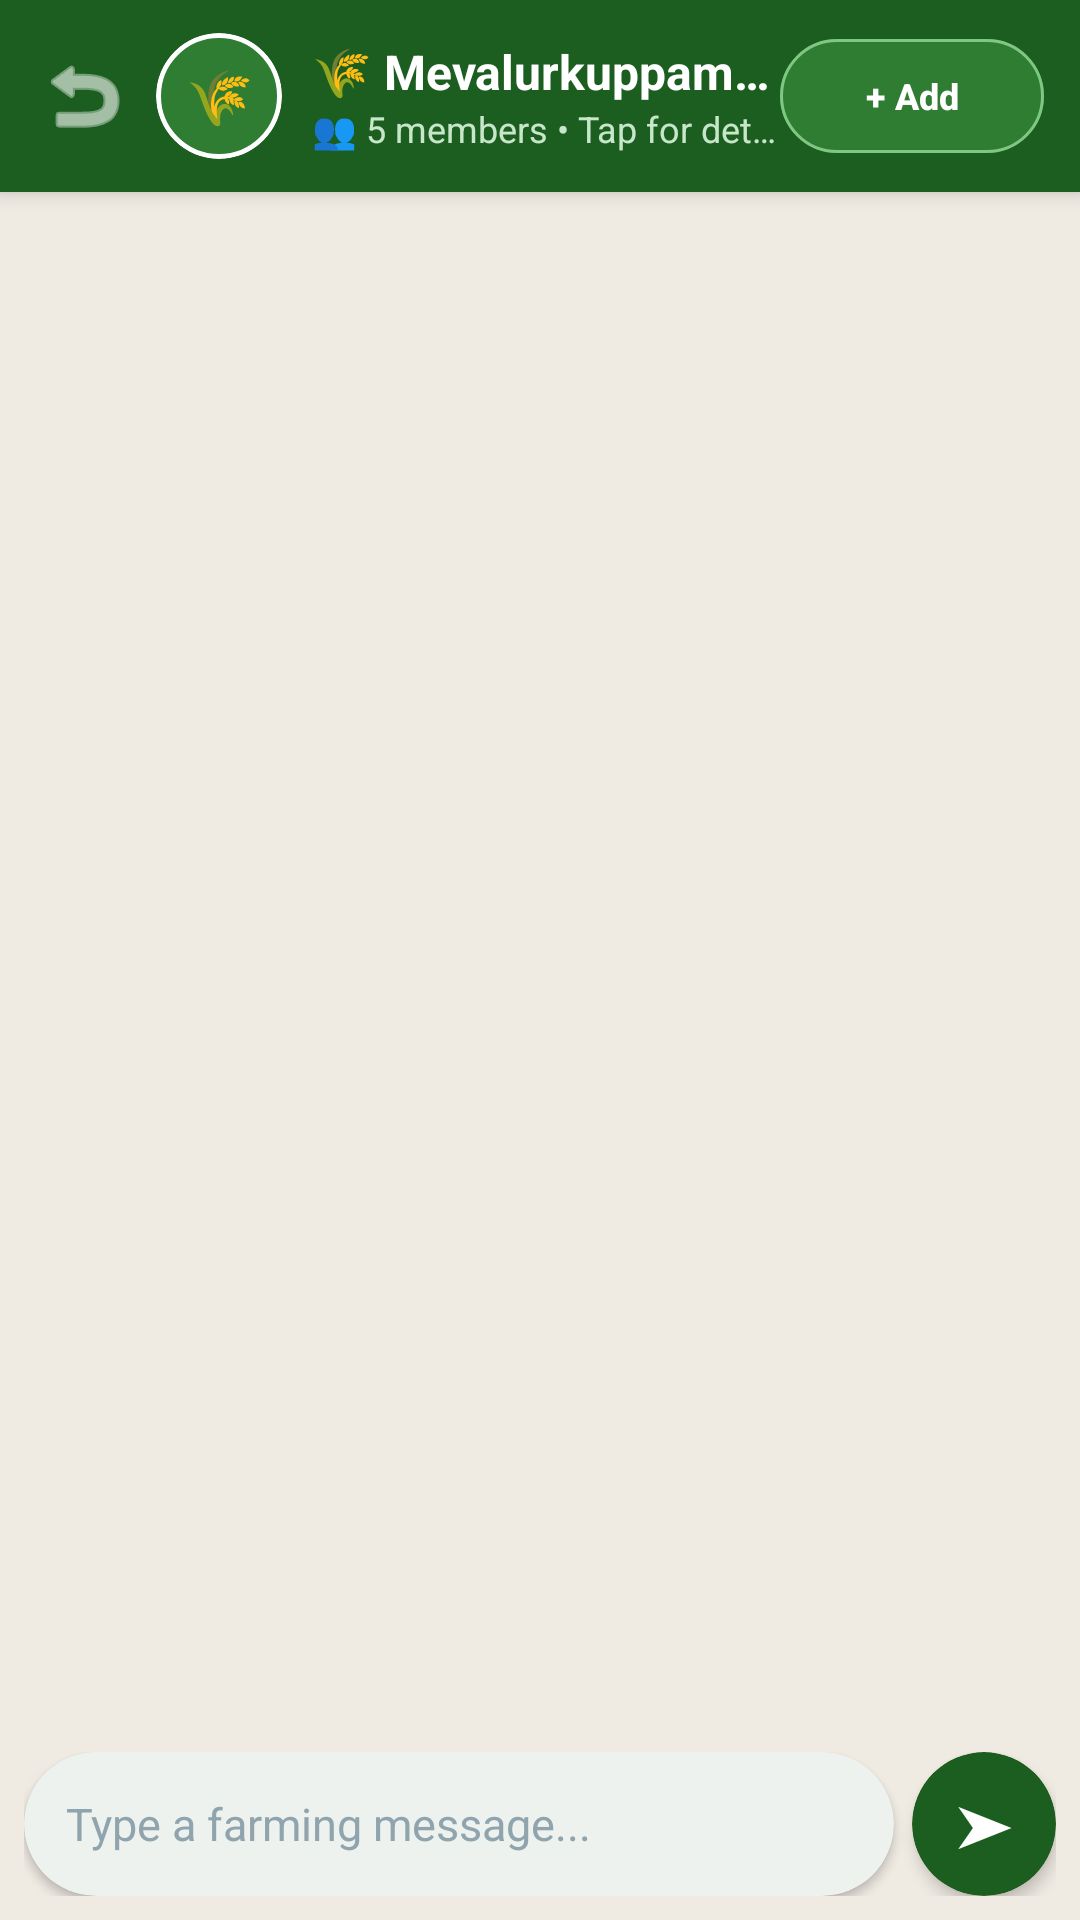

Named icons in this screenshot (1080 × 1920) and their bounding boxes, (x1, y1, x2, y2):
Back: (51, 65, 120, 128)
